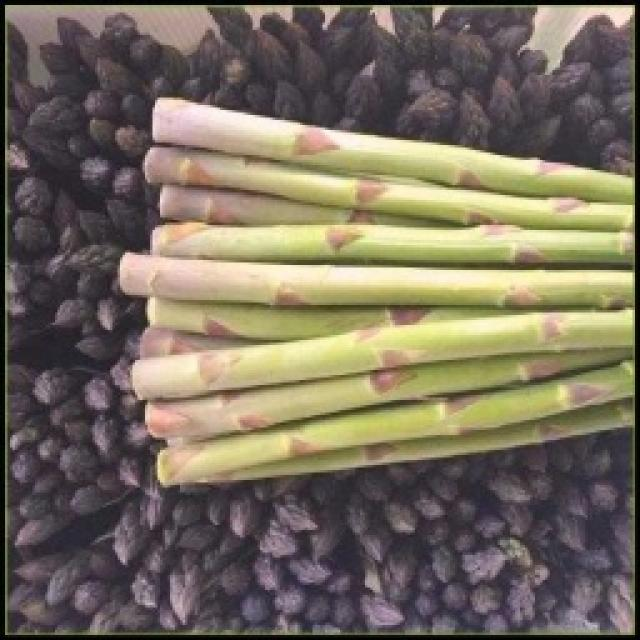asparagus: (140, 148, 600, 212), (105, 252, 640, 307), (129, 97, 617, 148), (93, 319, 634, 365), (142, 221, 632, 261), (134, 359, 556, 402), (146, 414, 546, 456)
